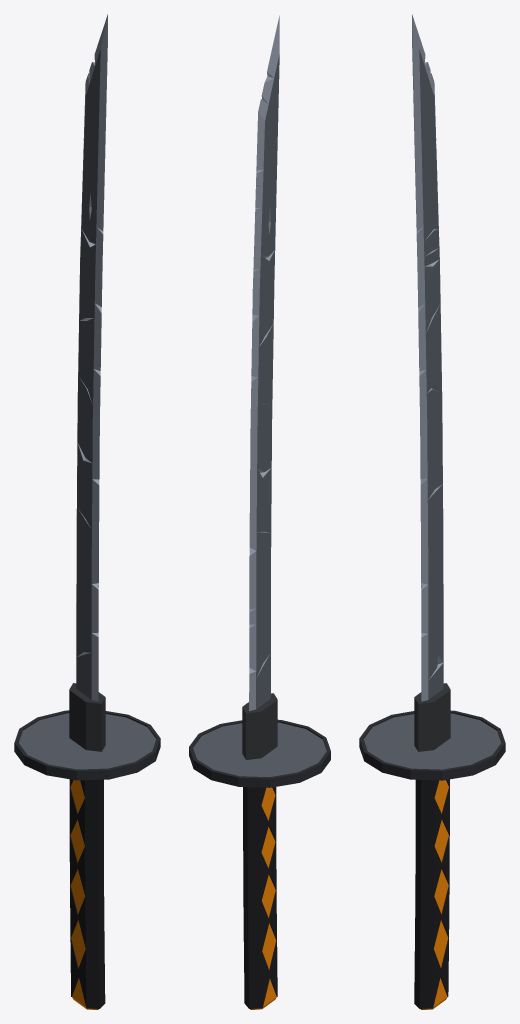
The model's file is katana.glb.
3 renders of one model, left to right at view 1: azimuth 30°, elevation 25°; view 2: azimuth 150°, elevation 25°; view 3: azimuth 330°, elevation 25°, orthographic. The views are drawn at different scales.
Visible parts, largest first — view 1: SM_Katana; view 2: SM_Katana; view 3: SM_Katana.
Part boxes in pixels (x1=…): SM_Katana: x1=14, y1=14, x2=160, y2=1009; SM_Katana: x1=189, y1=15, x2=330, y2=1009; SM_Katana: x1=359, y1=14, x2=505, y2=1009.
Bounding box in the file's own units: 0.1898 × 1.44 × 0.1872.
Materials: 1 (1 with a texture image).
